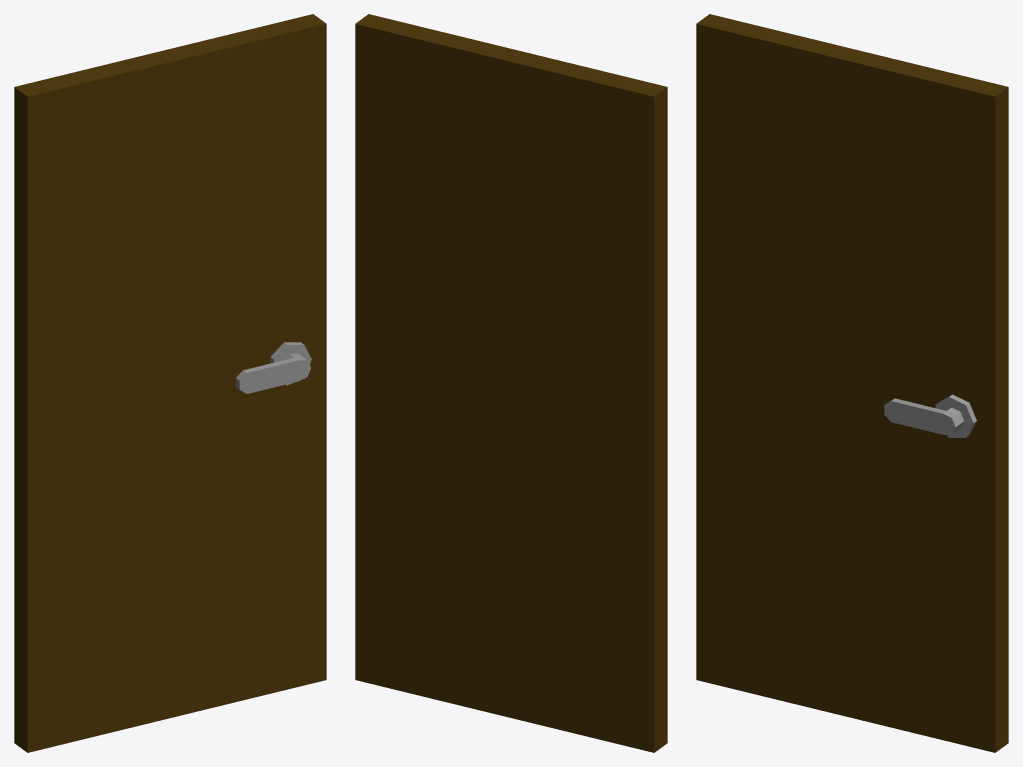
File: porte.fbx
3 renders of one model, left to right at view 1: azimuth 30°, elevation 25°; view 2: azimuth 150°, elevation 25°; view 3: azimuth 330°, elevation 25°, orthographic.
Parts seen in each view (by area): view 1: porte; view 2: porte; view 3: porte.
Boxes of the visible parts, box(x1,y1,x2,y2) form: porte: box(14, 14, 326, 752); porte: box(355, 14, 667, 752); porte: box(696, 14, 1008, 752).
Size of the model in its own units: 3.56 by 7.46 by 0.5262.
